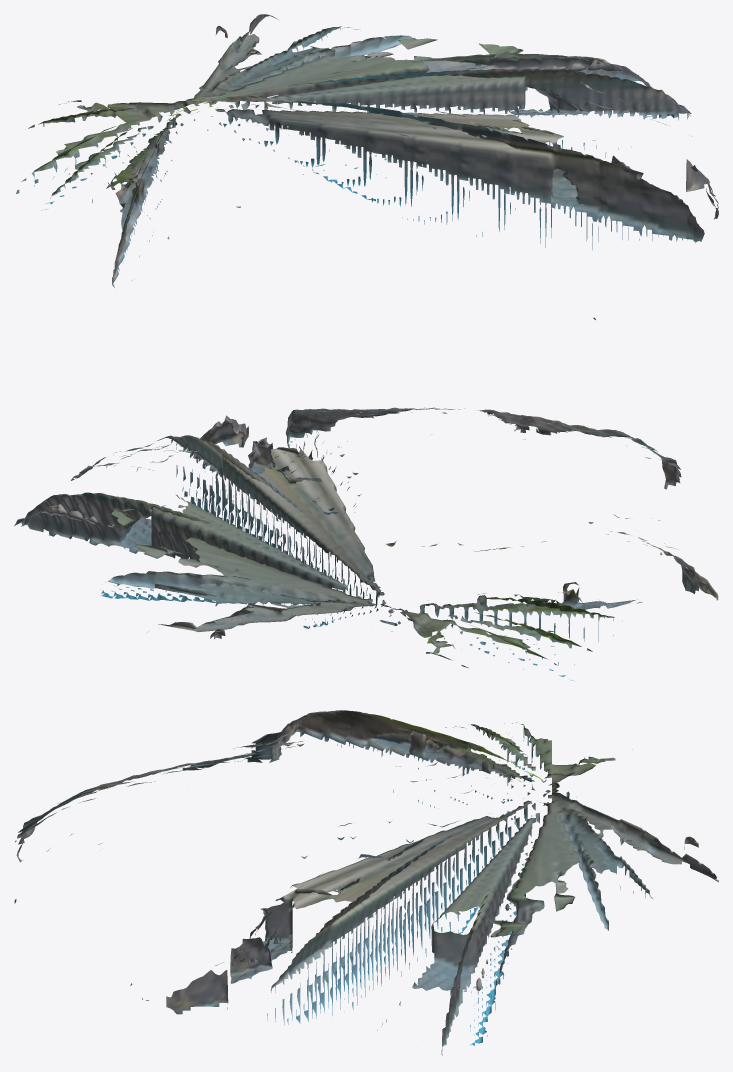
Rendered from rio-collider.glb.
3 renders of one model, top to bottom at view 1: azimuth 30°, elevation 25°; view 2: azimuth 150°, elevation 25°; view 3: azimuth 270°, elevation 25°, orthographic.
Parts seen in each view (by area): view 1: world; view 2: world; view 3: world.
Boxes of the visible parts, x1,y1,x2,y2 form: world: [16, 14, 718, 319]; world: [14, 407, 718, 680]; world: [14, 710, 718, 1055].
Bounding box in the file's own units: 191 × 35.93 × 188.
